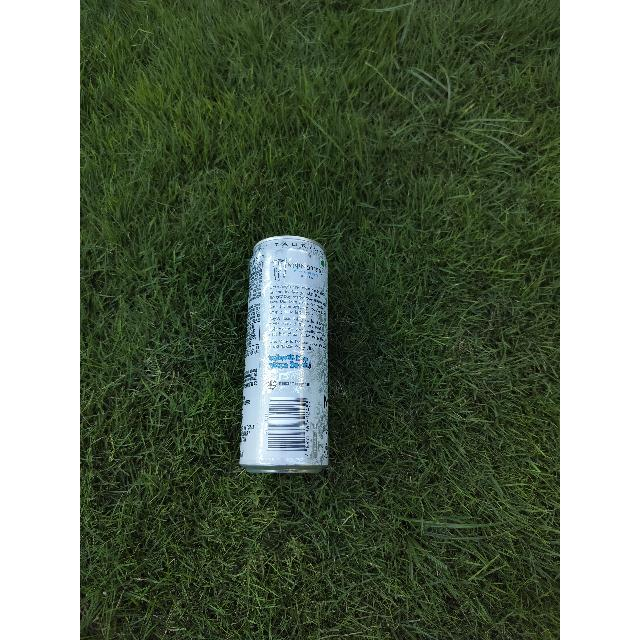White Monster: (240, 236, 334, 472)
